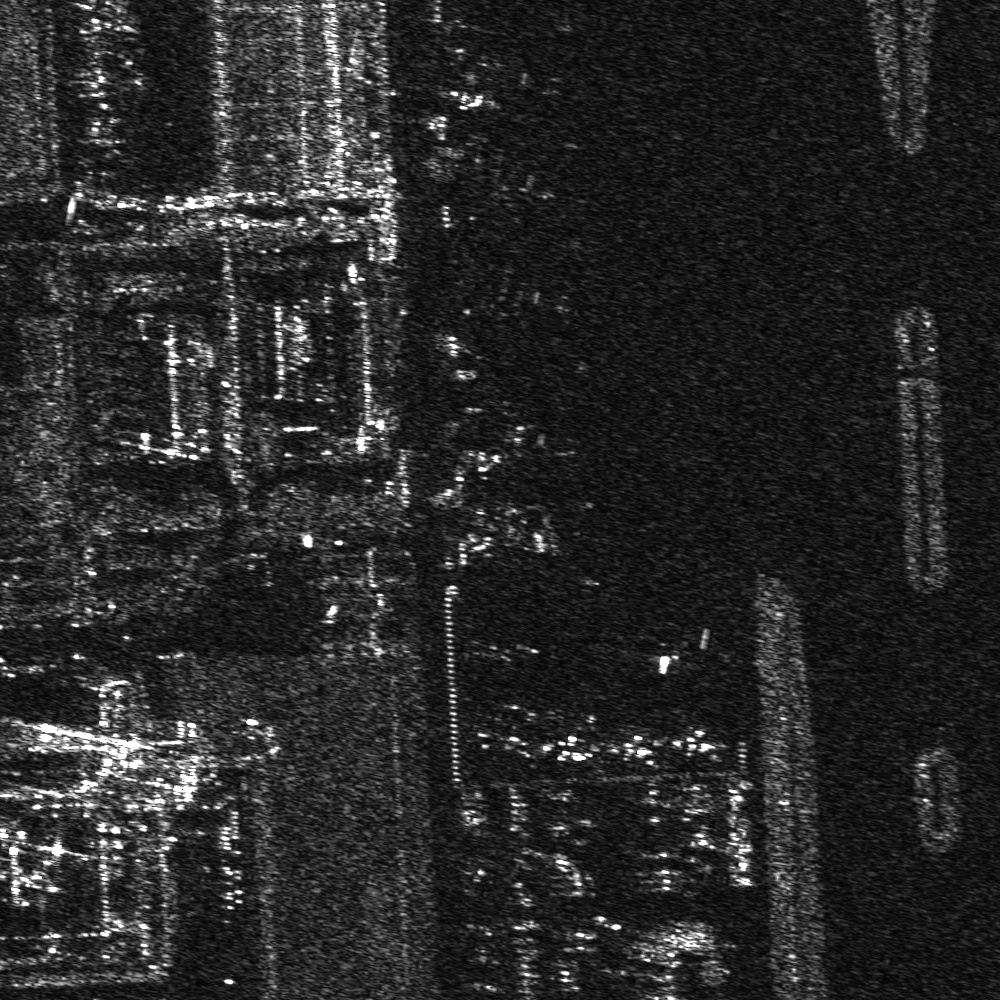A220: (458, 420, 578, 492)
A320/321: (452, 257, 579, 360)
ARJ21: (542, 731, 600, 764)
other: (473, 165, 560, 231), (607, 726, 663, 768), (671, 725, 728, 765)
